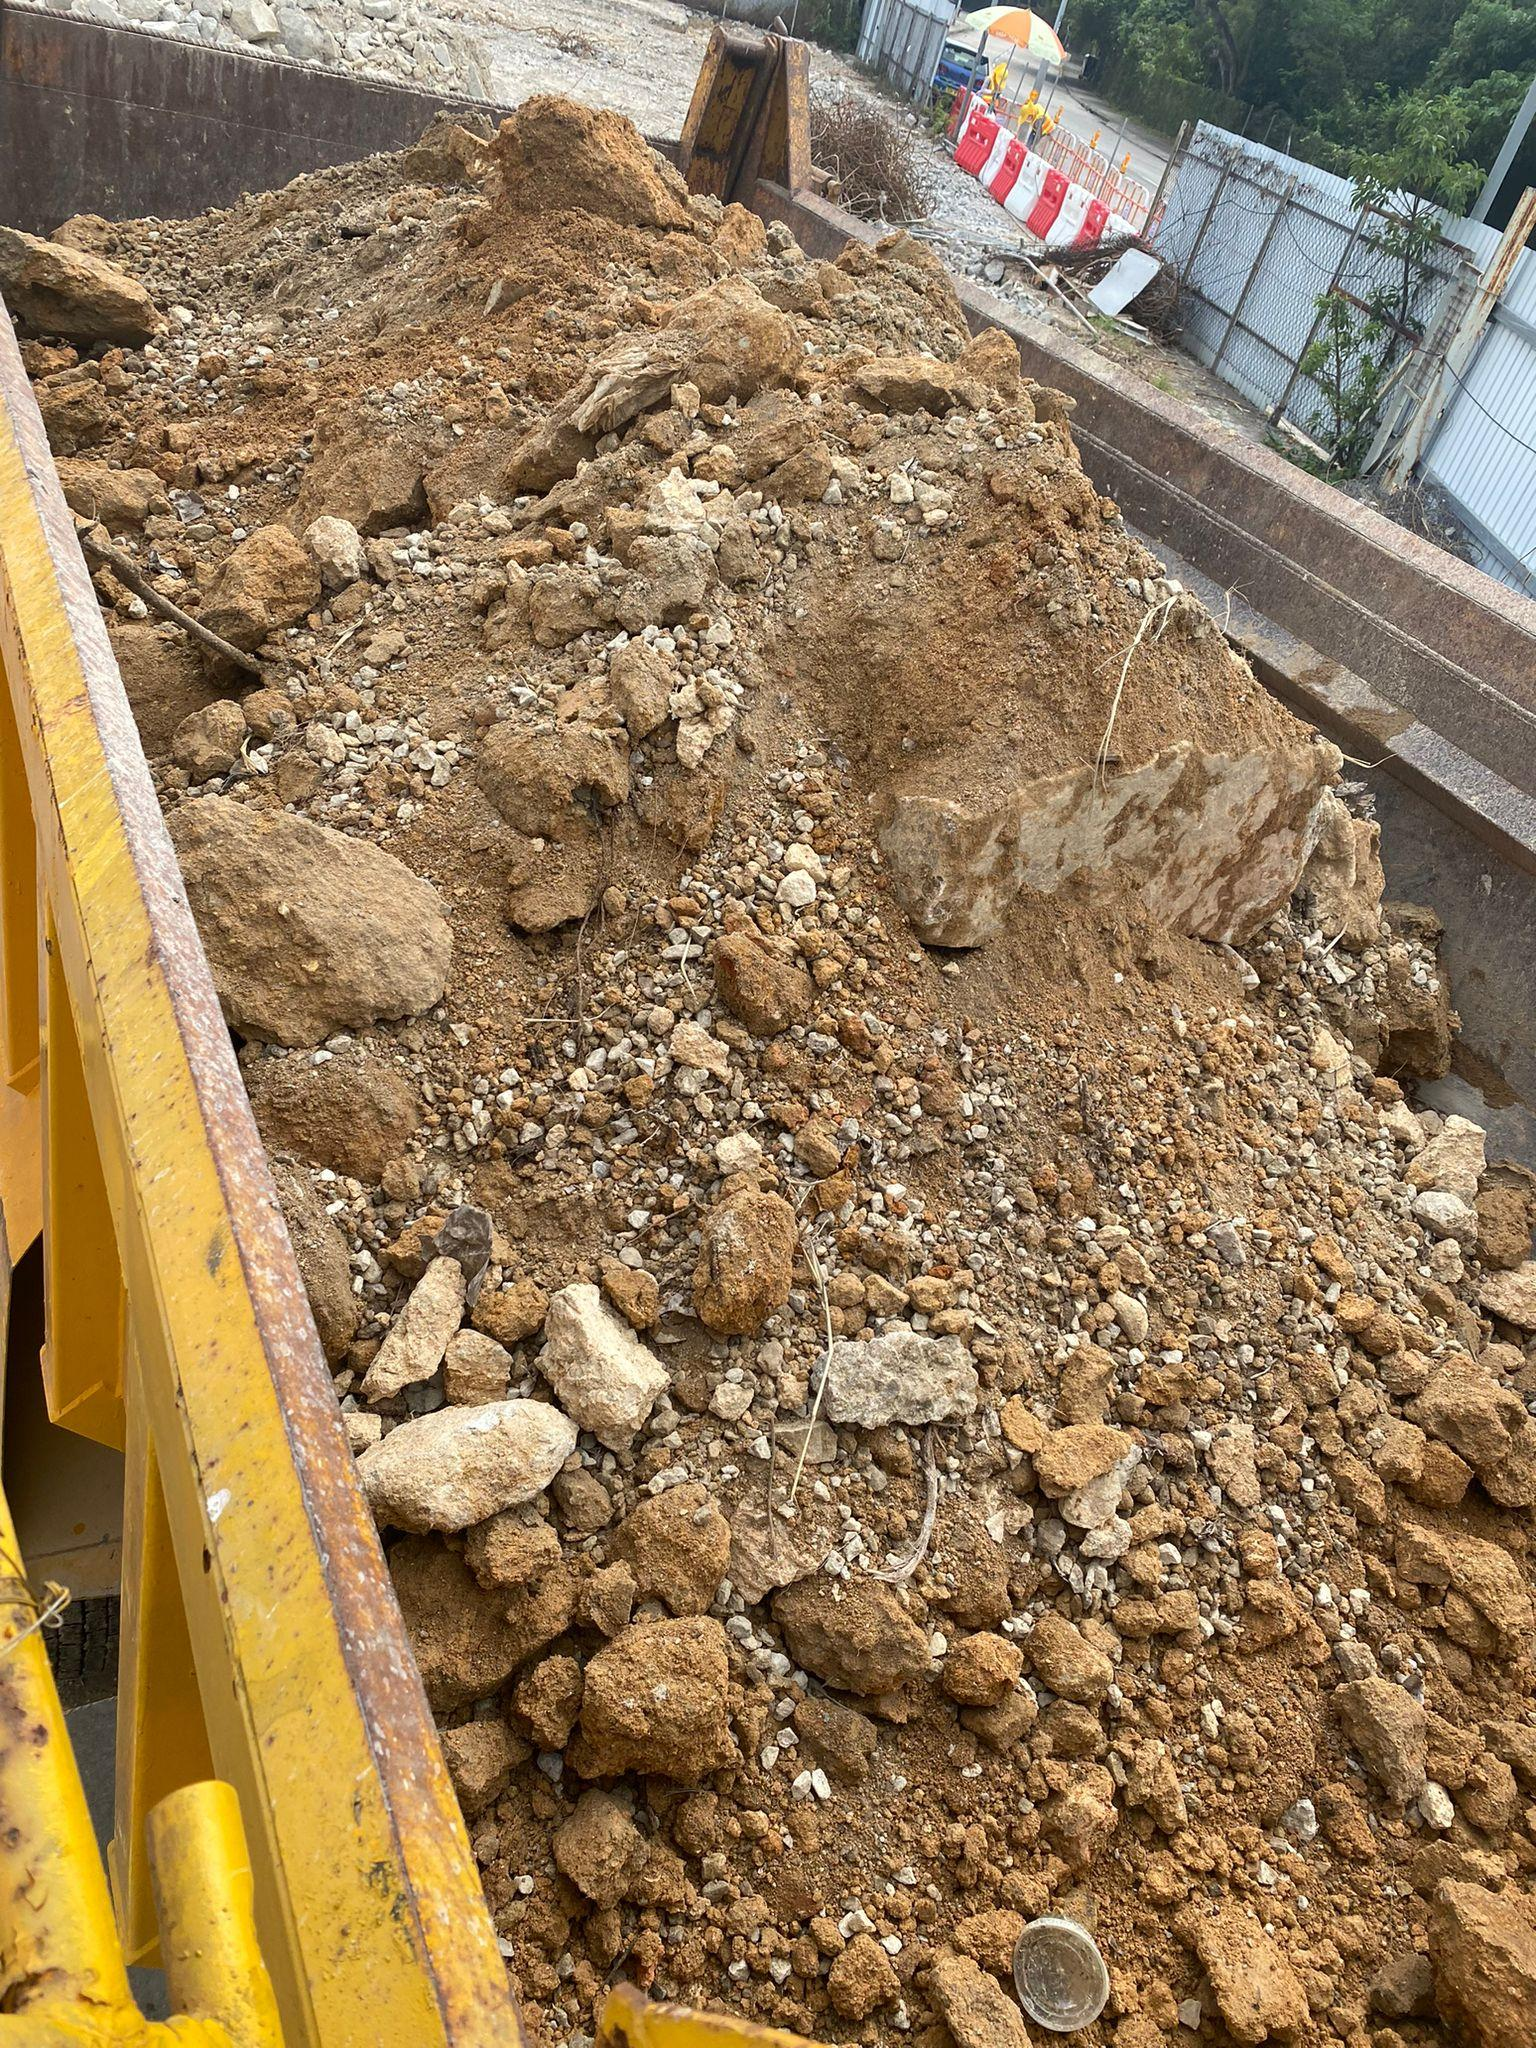dry: (16, 153, 1534, 2048)
